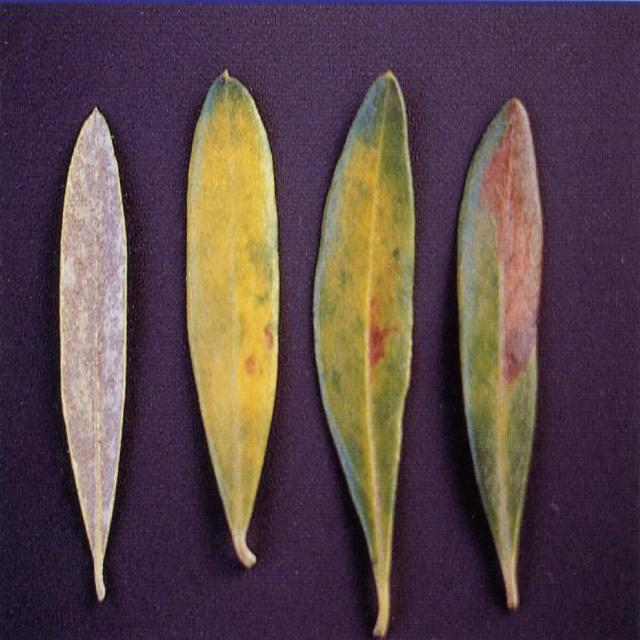Peacock Eye: (314, 71, 415, 586), (187, 71, 279, 566), (459, 98, 543, 574), (60, 108, 127, 602)
